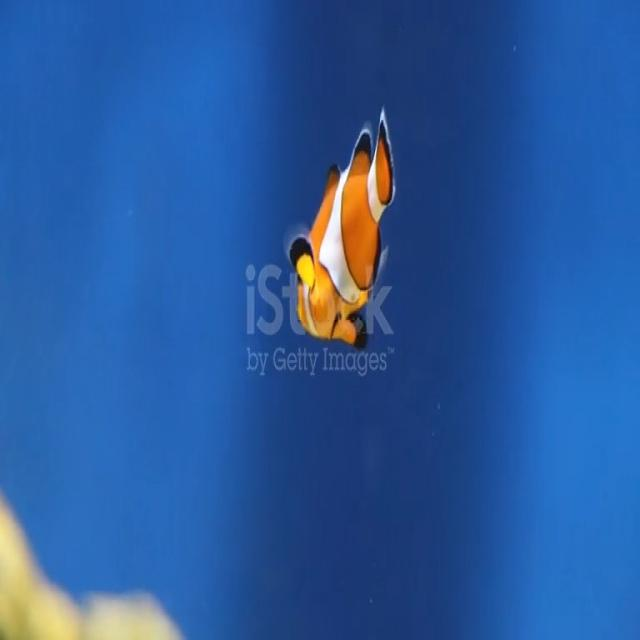fish: (286, 102, 395, 350)
